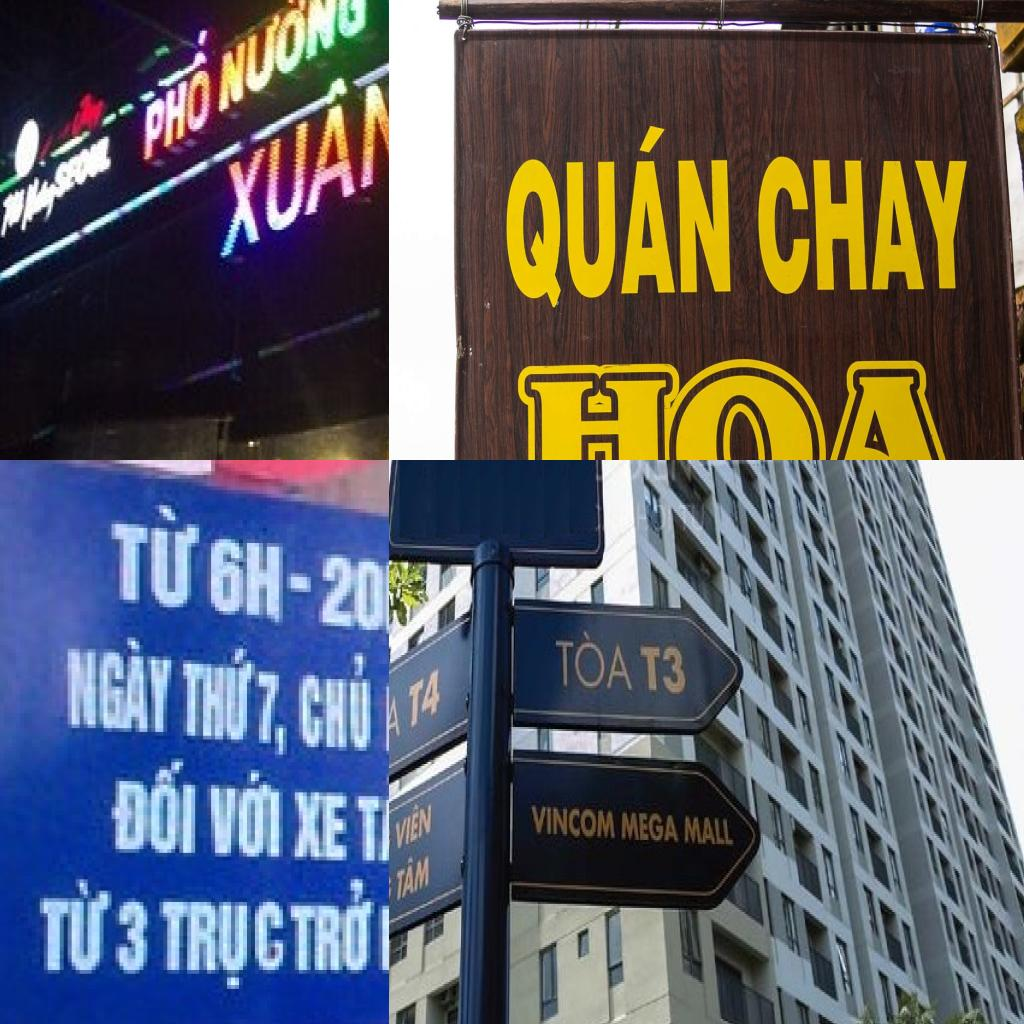text: (209, 25, 389, 280), (506, 125, 732, 310), (756, 156, 968, 296), (215, 0, 368, 124), (64, 626, 183, 740), (159, 898, 295, 993), (108, 498, 207, 618), (138, 16, 214, 170), (108, 754, 199, 856), (287, 876, 378, 978), (295, 648, 378, 754), (183, 642, 263, 744), (203, 770, 287, 864), (40, 880, 119, 978), (211, 535, 291, 630), (318, 554, 389, 641), (554, 626, 634, 692), (287, 789, 354, 864), (247, 668, 295, 766), (54, 134, 114, 207), (350, 766, 389, 872), (530, 805, 618, 840), (116, 902, 156, 978), (639, 645, 688, 694), (407, 667, 443, 733), (395, 797, 433, 854), (396, 848, 432, 904), (620, 811, 681, 844), (389, 686, 403, 768)
